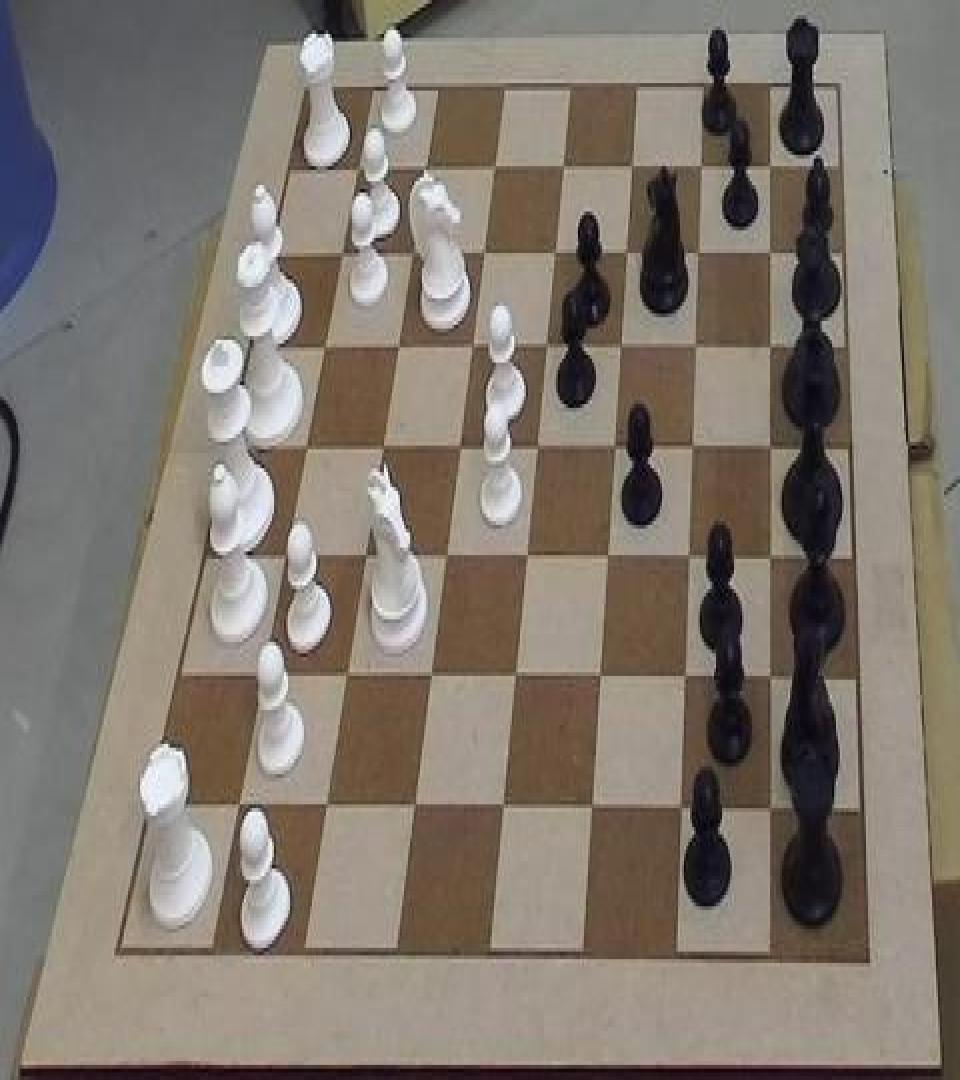xcorner: (759, 147, 779, 185), (690, 147, 710, 185), (620, 147, 640, 185), (551, 149, 571, 187), (483, 149, 503, 187), (414, 149, 434, 187), (345, 149, 365, 187), (759, 234, 779, 272), (687, 234, 707, 272), (615, 234, 635, 272), (544, 234, 564, 272), (472, 234, 492, 272), (401, 234, 421, 272), (329, 234, 349, 272), (760, 326, 780, 364), (684, 326, 704, 364), (610, 326, 630, 364), (535, 326, 555, 364), (460, 326, 480, 364), (386, 326, 406, 364), (312, 326, 332, 364), (760, 428, 780, 466), (682, 428, 702, 466), (603, 428, 623, 466), (526, 428, 546, 466), (448, 428, 468, 466), (371, 428, 391, 466), (294, 428, 314, 466), (760, 538, 780, 576), (678, 538, 698, 576), (597, 538, 617, 576), (516, 538, 536, 576), (435, 538, 455, 576), (354, 538, 374, 576), (273, 536, 293, 574), (760, 659, 780, 697), (675, 659, 695, 697), (589, 659, 609, 697), (504, 659, 524, 697), (420, 657, 440, 695), (335, 657, 355, 695), (251, 657, 271, 695), (761, 793, 781, 831), (671, 791, 691, 829), (581, 791, 601, 829), (492, 789, 512, 827), (403, 789, 423, 827), (315, 787, 335, 825), (227, 787, 247, 825)
